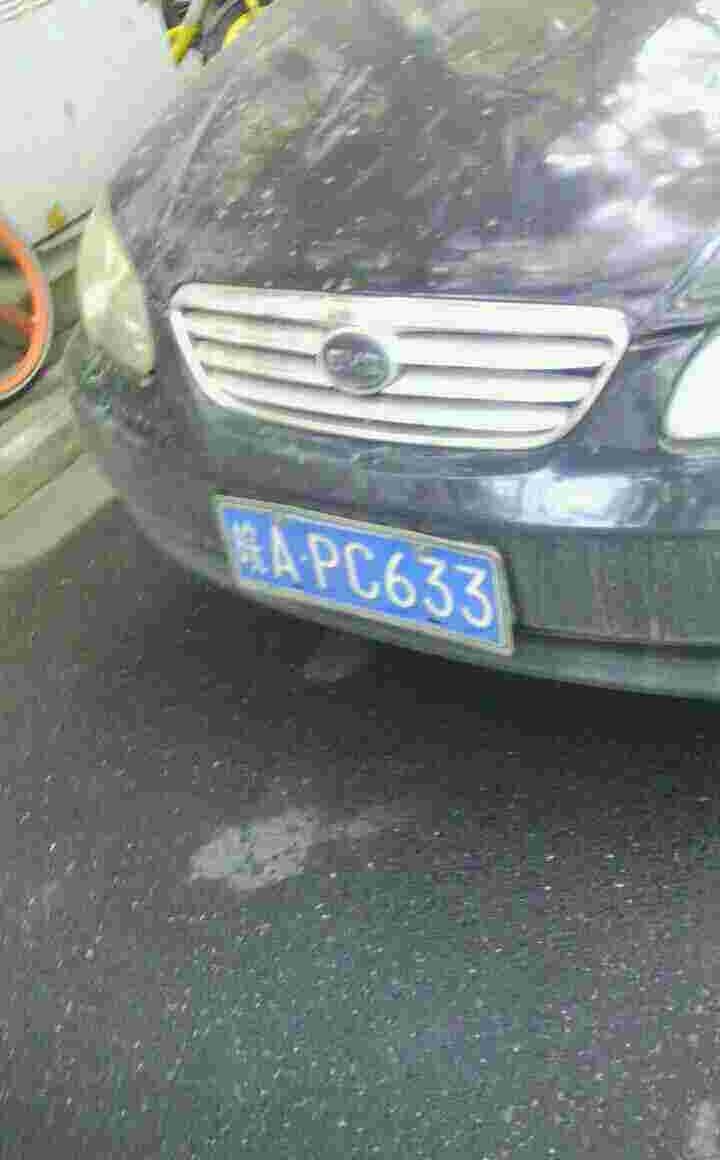license_plate: (231, 504, 507, 647)
